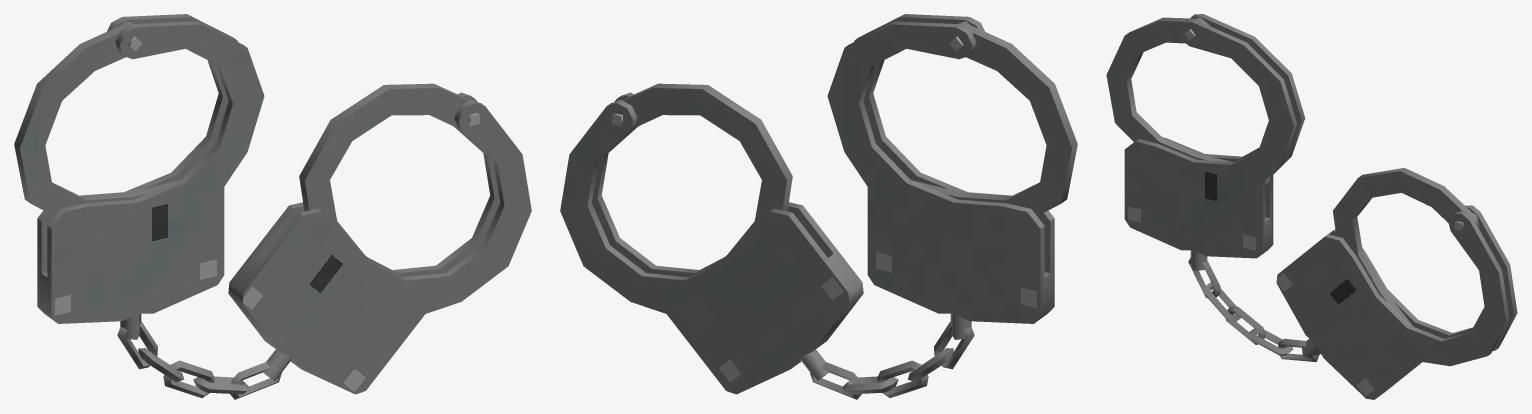
The model's file is handcuffs.obj.
The picture shows the model from 3 angles, left to right: view 1: azimuth 30°, elevation 25°; view 2: azimuth 150°, elevation 25°; view 3: azimuth 330°, elevation 25°; orthographic projection. The views are drawn at different scales.
Visible parts, largest first — view 1: handcuffs; view 2: handcuffs; view 3: handcuffs.
Part boxes in pixels (left/top/right/bottom): handcuffs: left=14, top=14, right=531, bottom=399; handcuffs: left=560, top=14, right=1077, bottom=399; handcuffs: left=1106, top=14, right=1517, bottom=399.
Bounding box in the file's own units: 0.6616 × 0.5239 × 0.0392.
